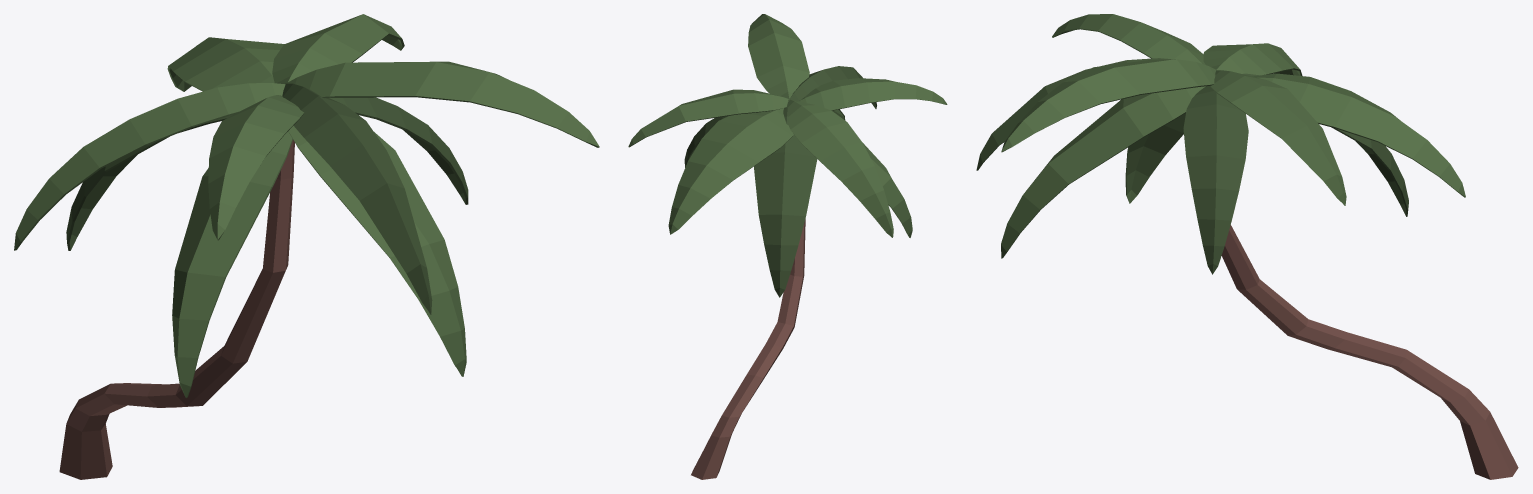
The model's file is palmtree_2.glb.
3 views of the same model, side by side, from view 1: azimuth 30°, elevation 25°; view 2: azimuth 150°, elevation 25°; view 3: azimuth 270°, elevation 25° (orthographic). The views are drawn at different scales.
Parts seen in each view (by area): view 1: PalmTree_2; view 2: PalmTree_2; view 3: PalmTree_2.
Part boxes in pixels (x1=…): PalmTree_2: x1=14, y1=14, x2=599, y2=479; PalmTree_2: x1=628, y1=14, x2=947, y2=479; PalmTree_2: x1=976, y1=14, x2=1518, y2=479.
Size of the model in its own units: 5.57 by 6.98 by 7.63.
